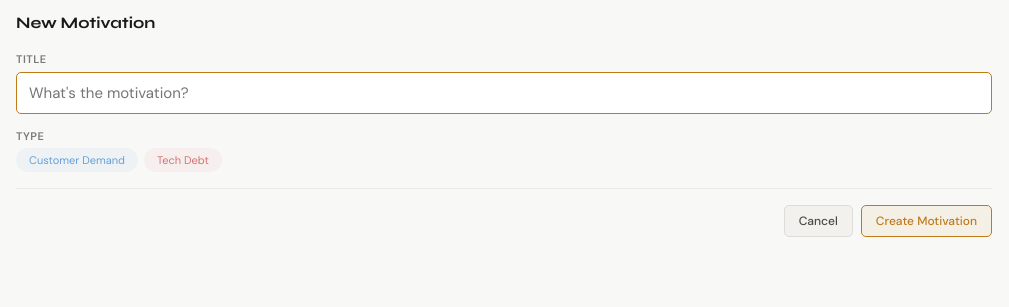
it: MotivationForm › shows progressive disclosure button after selecting type
Note: Select a type
Click the button with class "type-btn" showing "Customer Demand" at (77, 160), box [16, 148, 138, 172]
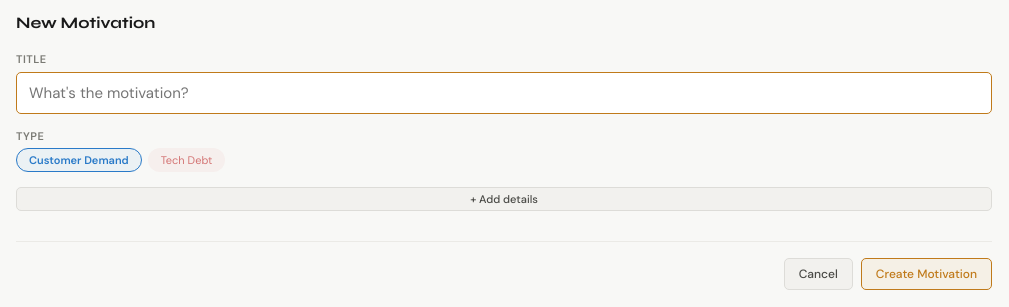
Check: the button with class "expand-btn" is shown, box [16, 187, 992, 211]
